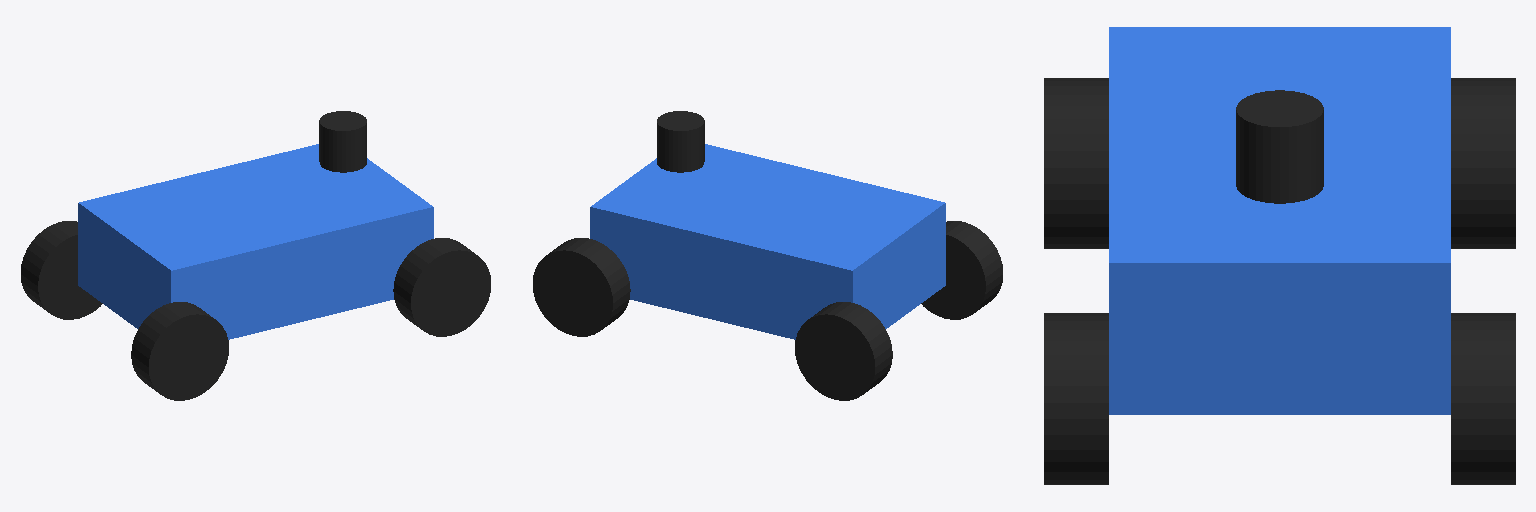
robot.urdf — f1tenth_racecar:
<?xml version="1.0"?>
<!--
F1TENTH Race Car URDF with Complete Physics Properties
Based on: f1tenth_gym and f1tenth_gym_ros
Vehicle: Traxxas Fiesta ST Rally 1/10 Scale
-->
<robot name="f1tenth_racecar">

  <!-- ============================================ -->
  <!-- Materials -->
  <!-- ============================================ -->
  <material name="black">
    <color rgba="0.2 0.2 0.2 1.0"/>
  </material>

  <material name="blue">
    <color rgba="0.3 0.57 1.0 1.0"/>
  </material>

  <material name="red">
    <color rgba="0.8 0.0 0.0 1.0"/>
  </material>

  <!-- ============================================ -->
  <!-- Base Link (Chassis) -->
  <!-- ============================================ -->
  <link name="base_link">
    <inertial>
      <origin xyz="0.165 0 0.09" rpy="0 0 0"/>
      <mass value="3.74"/>  <!-- F1TENTH mass from gym -->
      <inertia
        ixx="0.0456" ixy="0.0" ixz="0.0"
        iyy="0.0683" iyz="0.0"
        izz="0.0971"/>  <!-- Approximated from box model -->
    </inertial>

    <visual>
      <origin xyz="0.165 0 0.09" rpy="0 0 0"/>
      <geometry>
        <box size="0.3302 0.2032 0.1"/>  <!-- wheelbase x width x height -->
      </geometry>
      <material name="blue"/>
    </visual>

    <!-- 바퀴와의 간섭을 없기 위함
    <collision>
      <origin xyz="0.165 0 0.09" rpy="0 0 0"/>
      <geometry>
        <box size="0.3302 0.2032 0.1"/>
      </geometry>
    </collision>
    -->
  </link>

  <!-- ============================================ -->
  <!-- LiDAR (Hokuyo 10LX) -->
  <!-- ============================================ -->
  <joint name="base_to_laser" type="fixed">
    <parent link="base_link"/>
    <child link="laser"/>
    <origin xyz="0.275 0 0.19" rpy="0 0 0"/>  <!-- 0.275m forward, 0.19m high -->
  </joint>

  <link name="laser">
    <inertial>
      <mass value="0.130"/>  <!-- Hokuyo 10LX actual mass -->
      <origin xyz="0 0 0" rpy="0 0 0"/>
      <inertia
        ixx="0.0001" ixy="0.0" ixz="0.0"
        iyy="0.0001" iyz="0.0"
        izz="0.0001"/>
    </inertial>

    <visual>
      <geometry>
        <cylinder radius="0.026" length="0.05"/>
      </geometry>
      <material name="black"/>
    </visual>

    <collision>
      <geometry>
        <cylinder radius="0.026" length="0.05"/>
      </geometry>
    </collision>
  </link>

  <!-- ============================================ -->
  <!-- Rear Wheels (Fixed, Motor Controlled) -->
  <!-- ============================================ -->

  <!-- Left Rear Wheel -->
  <joint name="left_rear_wheel_joint" type="revolute">
    <parent link="base_link"/>
    <child link="left_rear_wheel"/>
    <origin xyz="0 0.12065 0.0508" rpy="0 0 0"/>  <!-- y = (wheel_width + width)/2 -->
    <axis xyz="0 1 0"/>  <!-- Rotation around Y axis -->
    <limit lower="-1e9" upper="1e9" effort="100.0" velocity="400.0"/>  <!-- VESC motor: 100 N·m -->
  </joint>

  <link name="left_rear_wheel">
    <inertial>
      <mass value="0.34055"/>  <!-- Wheel mass -->
      <origin xyz="0 0 0" rpy="0 0 0"/>
      <inertia
        ixx="0.00026046" ixy="0.0" ixz="0.0"
        iyy="0.00026046" iyz="0.0"
        izz="0.00044"/>  <!-- Cylinder inertia -->
    </inertial>

    <visual>
      <geometry>
        <cylinder radius="0.0508" length="0.0381"/>
      </geometry>
      <material name="black"/>
      <origin xyz="0 0 0" rpy="1.5707963 0 0"/>  <!-- pi/2 rotation -->
    </visual>

    <collision>
      <geometry>
        <cylinder radius="0.0508" length="0.0381"/>
      </geometry>
      <origin xyz="0 0 0" rpy="1.5707963 0 0"/>
      <contact>
        <lateral_friction value="1.0"/>
      </contact>
    </collision>
  </link>

  <!-- Right Rear Wheel -->
  <joint name="right_rear_wheel_joint" type="revolute">
    <parent link="base_link"/>
    <child link="right_rear_wheel"/>
    <origin xyz="0 -0.12065 0.0508" rpy="0 0 0"/>
    <axis xyz="0 1 0"/>
    <limit lower="-1e9" upper="1e9" effort="100.0" velocity="400.0"/>  <!-- VESC motor: 100 N·m -->
  </joint>

  <link name="right_rear_wheel">
    <inertial>
      <mass value="0.34055"/>
      <origin xyz="0 0 0" rpy="0 0 0"/>
      <inertia
        ixx="0.00026046" ixy="0.0" ixz="0.0"
        iyy="0.00026046" iyz="0.0"
        izz="0.00044"/>
    </inertial>

    <visual>
      <geometry>
        <cylinder radius="0.0508" length="0.0381"/>
      </geometry>
      <material name="black"/>
      <origin xyz="0 0 0" rpy="1.5707963 0 0"/>
    </visual>

    <collision>
      <geometry>
        <cylinder radius="0.0508" length="0.0381"/>
      </geometry>
      <origin xyz="0 0 0" rpy="1.5707963 0 0"/>
      <contact>
        <lateral_friction value="1.0"/>
      </contact>
    </collision>
  </link>

  <!-- ============================================ -->
  <!-- Front Wheels (Steerable, Ackermann) -->
  <!-- ============================================ -->

  <!-- Left Front Steering Hinge -->
  <joint name="left_steering_hinge_joint" type="revolute">
    <parent link="base_link"/>
    <child link="left_steering_hinge"/>
    <origin xyz="0.3302 0.12065 0.0508" rpy="0 0 0"/>
    <axis xyz="0 0 1"/>  <!-- Steering axis (vertical) -->
    <limit lower="-0.4189" upper="0.4189" effort="10.0" velocity="3.2"/>  <!-- ±24°, from F1TENTH Gym -->
  </joint>

  <link name="left_steering_hinge">
    <inertial>
      <mass value="0.1"/>
      <origin xyz="0 0 0" rpy="0 0 0"/>
      <inertia
        ixx="0.0001" ixy="0.0" ixz="0.0"
        iyy="0.0001" iyz="0.0"
        izz="0.0001"/>
    </inertial>
  </link>

  <!-- Left Front Wheel -->
  <joint name="left_front_wheel_joint" type="revolute">
    <parent link="left_steering_hinge"/>
    <child link="left_front_wheel"/>
    <origin xyz="0 0 0" rpy="0 0 0"/>
    <axis xyz="0 1 0"/>
    <limit lower="-1e9" upper="1e9" effort="100.0" velocity="400.0"/>  <!-- AWD: VESC motor -->
  </joint>

  <link name="left_front_wheel">
    <inertial>
      <mass value="0.34055"/>
      <origin xyz="0 0 0" rpy="0 0 0"/>
      <inertia
        ixx="0.00026046" ixy="0.0" ixz="0.0"
        iyy="0.00026046" iyz="0.0"
        izz="0.00044"/>
    </inertial>

    <visual>
      <geometry>
        <cylinder radius="0.0508" length="0.0381"/>
      </geometry>
      <material name="black"/>
      <origin xyz="0 0 0" rpy="1.5707963 0 0"/>
    </visual>

    <collision>
      <geometry>
        <cylinder radius="0.0508" length="0.0381"/>
      </geometry>
      <origin xyz="0 0 0" rpy="1.5707963 0 0"/>
      <contact>
        <lateral_friction value="1.0"/>
      </contact>
    </collision>
  </link>

  <!-- Right Front Steering Hinge -->
  <joint name="right_steering_hinge_joint" type="revolute">
    <parent link="base_link"/>
    <child link="right_steering_hinge"/>
    <origin xyz="0.3302 -0.12065 0.0508" rpy="0 0 0"/>
    <axis xyz="0 0 1"/>
    <limit lower="-0.4189" upper="0.4189" effort="10.0" velocity="3.2"/>
  </joint>

  <link name="right_steering_hinge">
    <inertial>
      <mass value="0.1"/>
      <origin xyz="0 0 0" rpy="0 0 0"/>
      <inertia
        ixx="0.0001" ixy="0.0" ixz="0.0"
        iyy="0.0001" iyz="0.0"
        izz="0.0001"/>
    </inertial>
  </link>

  <!-- Right Front Wheel -->
  <joint name="right_front_wheel_joint" type="revolute">
    <parent link="right_steering_hinge"/>
    <child link="right_front_wheel"/>
    <origin xyz="0 0 0" rpy="0 0 0"/>
    <axis xyz="0 1 0"/>
    <limit lower="-1e9" upper="1e9" effort="100.0" velocity="400.0"/>  <!-- AWD: VESC motor -->
  </joint>

  <link name="right_front_wheel">
    <inertial>
      <mass value="0.34055"/>
      <origin xyz="0 0 0" rpy="0 0 0"/>
      <inertia
        ixx="0.00026046" ixy="0.0" ixz="0.0"
        iyy="0.00026046" iyz="0.0"
        izz="0.00044"/>
    </inertial>

    <visual>
      <geometry>
        <cylinder radius="0.0508" length="0.0381"/>
      </geometry>
      <material name="black"/>
      <origin xyz="0 0 0" rpy="1.5707963 0 0"/>
    </visual>

    <collision>
      <geometry>
        <cylinder radius="0.0508" length="0.0381"/>
      </geometry>
      <origin xyz="0 0 0" rpy="1.5707963 0 0"/>
      <contact>
        <lateral_friction value="1.0"/>
      </contact>
    </collision>
  </link>

</robot>

--- Facts derived from the render (not from the file) ---
The picture shows the robot from 3 angles, left to right: view 1: azimuth 30°, elevation 25°; view 2: azimuth 150°, elevation 25°; view 3: azimuth 270°, elevation 25°; orthographic projection.
Robot: f1tenth_racecar — 8 links, 7 joints (6 revolute, 1 fixed); root link base_link; default pose: all joints at 0.
Visible links, largest first — view 1: base_link, right_rear_wheel, right_front_wheel, left_rear_wheel, laser; view 2: base_link, left_rear_wheel, left_front_wheel, right_rear_wheel, laser; view 3: base_link, left_front_wheel, right_front_wheel, left_rear_wheel, right_rear_wheel, laser.
Link boxes in pixels (bbox=[...]): base_link: bbox=[78, 144, 433, 339]; right_rear_wheel: bbox=[131, 302, 228, 400]; right_front_wheel: bbox=[393, 238, 490, 336]; left_rear_wheel: bbox=[21, 221, 102, 319]; laser: bbox=[319, 111, 366, 172]; base_link: bbox=[590, 144, 945, 339]; left_rear_wheel: bbox=[795, 302, 892, 400]; left_front_wheel: bbox=[533, 238, 630, 336]; right_rear_wheel: bbox=[921, 221, 1002, 319]; laser: bbox=[657, 111, 704, 172]; base_link: bbox=[1109, 27, 1450, 414]; left_front_wheel: bbox=[1451, 313, 1515, 484]; right_front_wheel: bbox=[1044, 313, 1108, 484]; left_rear_wheel: bbox=[1451, 78, 1515, 248]; right_rear_wheel: bbox=[1044, 78, 1108, 248]; laser: bbox=[1236, 90, 1323, 203].
Size in the robot's own frame: 0.4318 by 0.2794 by 0.215 metres.
Geometry: primitives only (box / cylinder / sphere), no mesh files.
